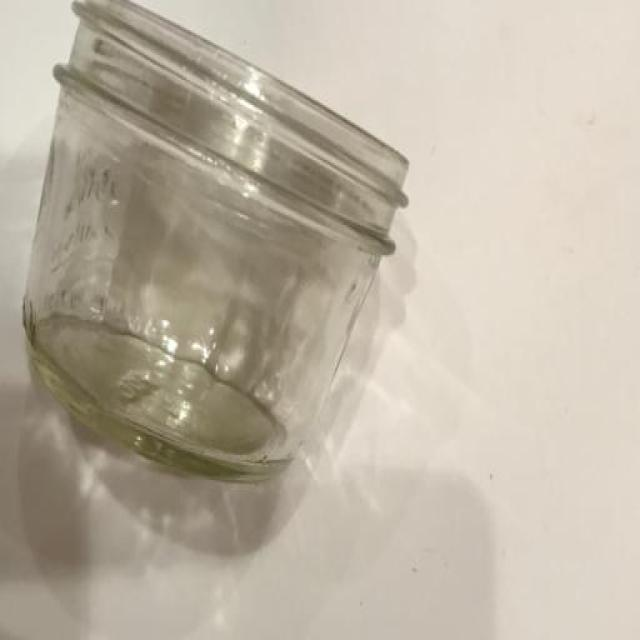glass: (1, 0, 428, 543)
